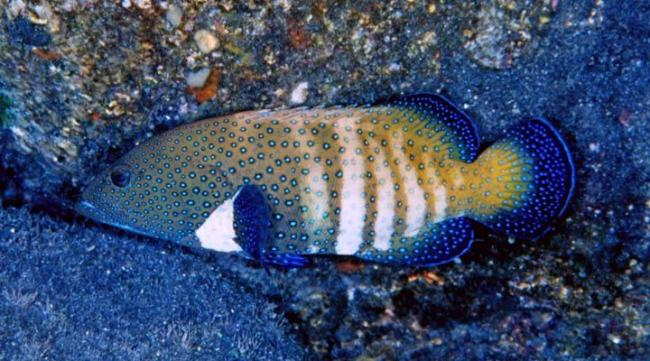fish: (74, 93, 579, 267)
